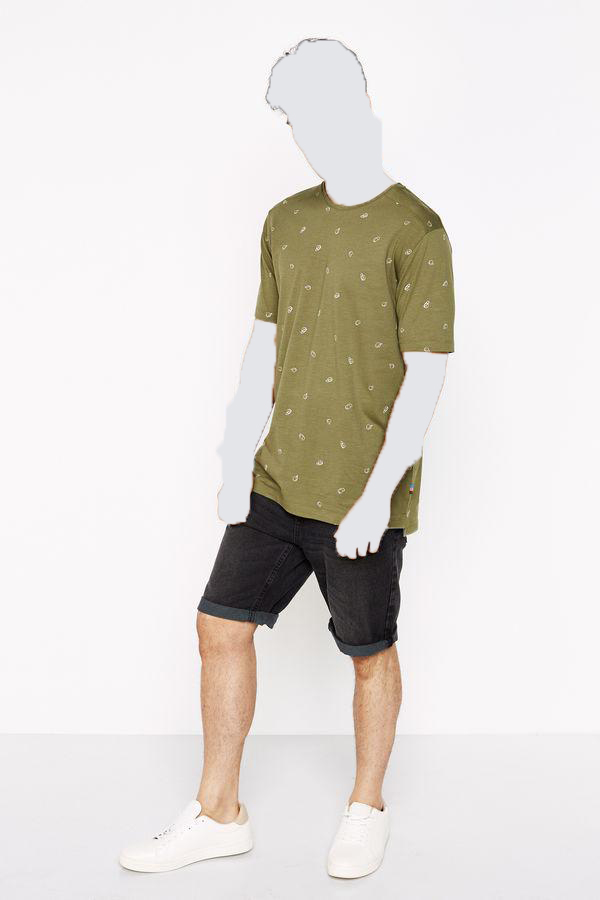teeshirt: (234, 178, 472, 547)
